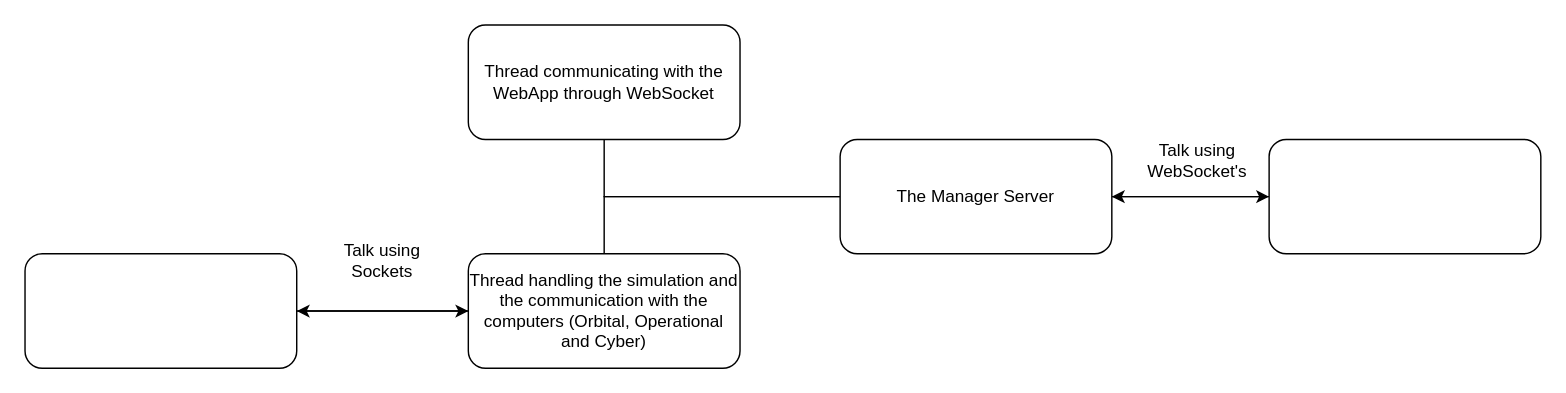
This 1566x393 diagram has some shape labels left out. The shapes that lost their labels are listed below. From the top down, each one's centre as x and y in pixels, then its label:
point 1404,196: The WebApp Built in React js.
point 160,310: The Cyber, Orbital and Operational computers
